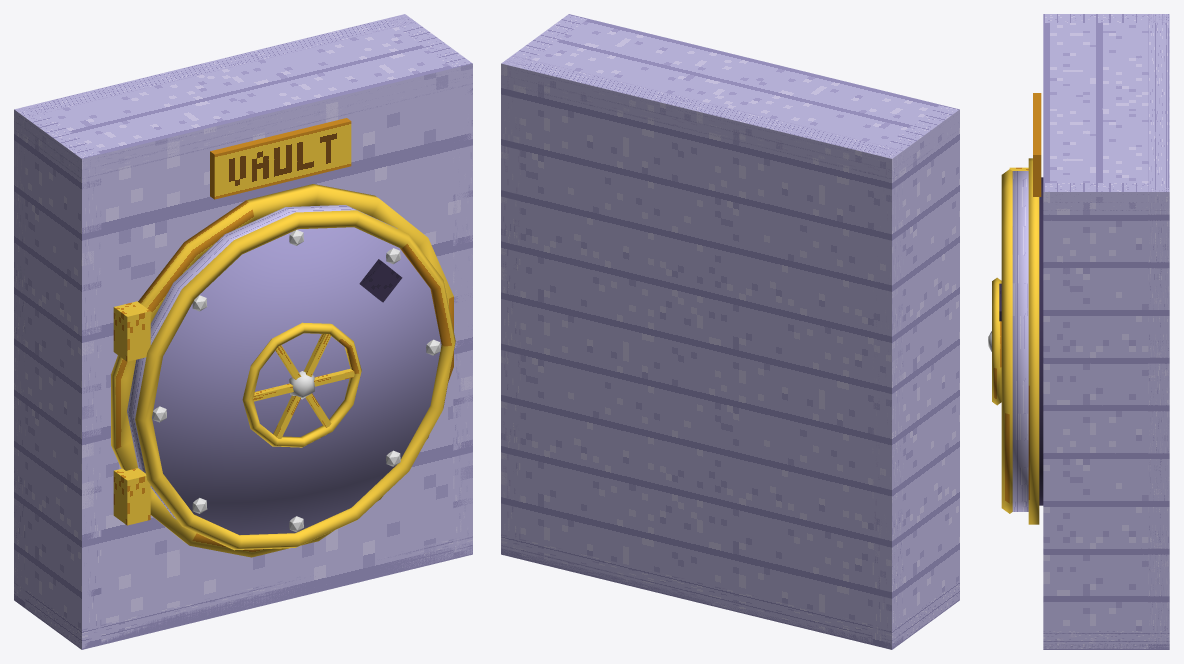
File: Vault.fbx
3 renders of one model, left to right at view 1: azimuth 30°, elevation 25°; view 2: azimuth 150°, elevation 25°; view 3: azimuth 270°, elevation 25°, orthographic. The views are drawn at different scales.
Visible parts, largest first — view 1: Vault front, Vault door slab, Vault side -1, Vault top, Vault door rim, Vault jamb ring, Vault back, Vault plate, Vault side 1, Vault bottom, Vault wheel ring, Vault hinge 0 (+4 smaller); view 2: Vault back, Vault side -1, Vault top, Vault side 1, Vault bottom; view 3: Vault side 1, Vault top, Vault back, Vault door slab, Vault jamb ring, Vault door rim, Vault bottom, Vault jamb, Vault wheel ring, Vault side -1, Vault plate.
Part boxes in pixels (bbox=[...]): Vault front: bbox=[82, 63, 472, 649]; Vault door slab: bbox=[127, 205, 441, 535]; Vault side -1: bbox=[14, 104, 101, 649]; Vault top: bbox=[14, 27, 472, 178]; Vault door rim: bbox=[135, 210, 455, 550]; Vault jamb ring: bbox=[111, 184, 453, 557]; Vault back: bbox=[14, 14, 415, 607]; Vault plate: bbox=[210, 118, 351, 199]; Vault side 1: bbox=[386, 14, 472, 558]; Vault bottom: bbox=[14, 534, 472, 649]; Vault wheel ring: bbox=[242, 322, 361, 447]; Vault hinge 0: bbox=[113, 301, 150, 361]; Vault back: bbox=[501, 55, 903, 649]; Vault side -1: bbox=[872, 104, 959, 649]; Vault top: bbox=[501, 19, 958, 178]; Vault side 1: bbox=[501, 14, 587, 558]; Vault bottom: bbox=[501, 534, 959, 649]; Vault side 1: bbox=[1043, 183, 1169, 649]; Vault top: bbox=[1043, 23, 1169, 210]; Vault back: bbox=[1148, 14, 1169, 649]; Vault door slab: bbox=[1012, 171, 1028, 511]; Vault jamb ring: bbox=[1028, 158, 1039, 524]; Vault door rim: bbox=[1001, 169, 1012, 513]; Vault bottom: bbox=[1043, 631, 1169, 649]; Vault jamb: bbox=[1039, 177, 1043, 505]; Vault wheel ring: bbox=[992, 277, 1001, 405]; Vault side -1: bbox=[1043, 14, 1169, 22]; Vault plate: bbox=[1033, 93, 1041, 196].
Size of the model in its own units: 2 by 2.4 by 0.8625.
Materials: 8 (6 with a texture image).
